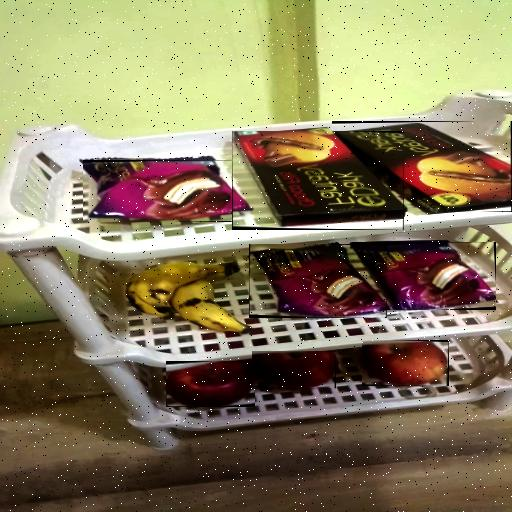Apple: (166, 361, 255, 407), (362, 340, 449, 386), (252, 352, 336, 390)
Choco Fills: (232, 131, 404, 230), (332, 121, 512, 212)
Choco Pie: (83, 160, 250, 222), (249, 244, 387, 318), (352, 242, 496, 310)
